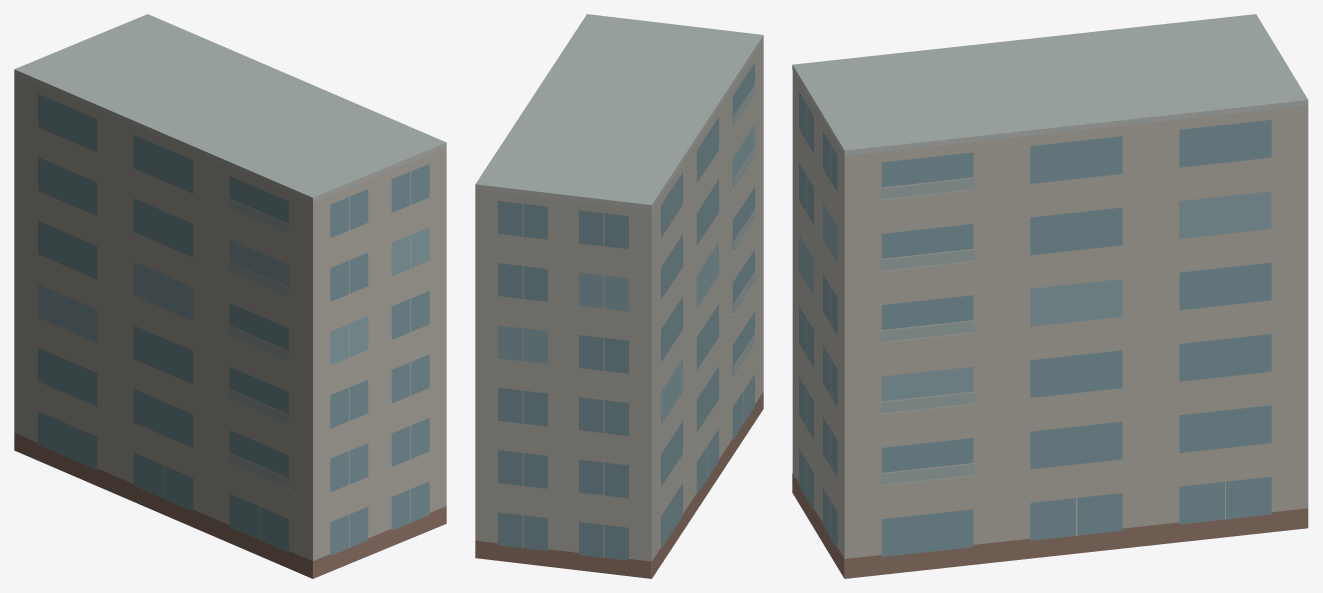
Rendered from survey-upis-32573979.glb.
3 views of the same model, side by side, from view 1: azimuth 30°, elevation 25°; view 2: azimuth 150°, elevation 25°; view 3: azimuth 270°, elevation 25° (orthographic). The views are drawn at different scales.
Parts seen in each view (by area): view 1: survey-upis-32573979.tmp; view 2: survey-upis-32573979.tmp; view 3: survey-upis-32573979.tmp.
Boxes of the visible parts, x1,y1,x2,y2 form: survey-upis-32573979.tmp: (14, 14, 446, 578); survey-upis-32573979.tmp: (475, 14, 763, 578); survey-upis-32573979.tmp: (792, 14, 1308, 578).
Bounding box in the file's own units: 12.88 × 18.8 × 20.54.
